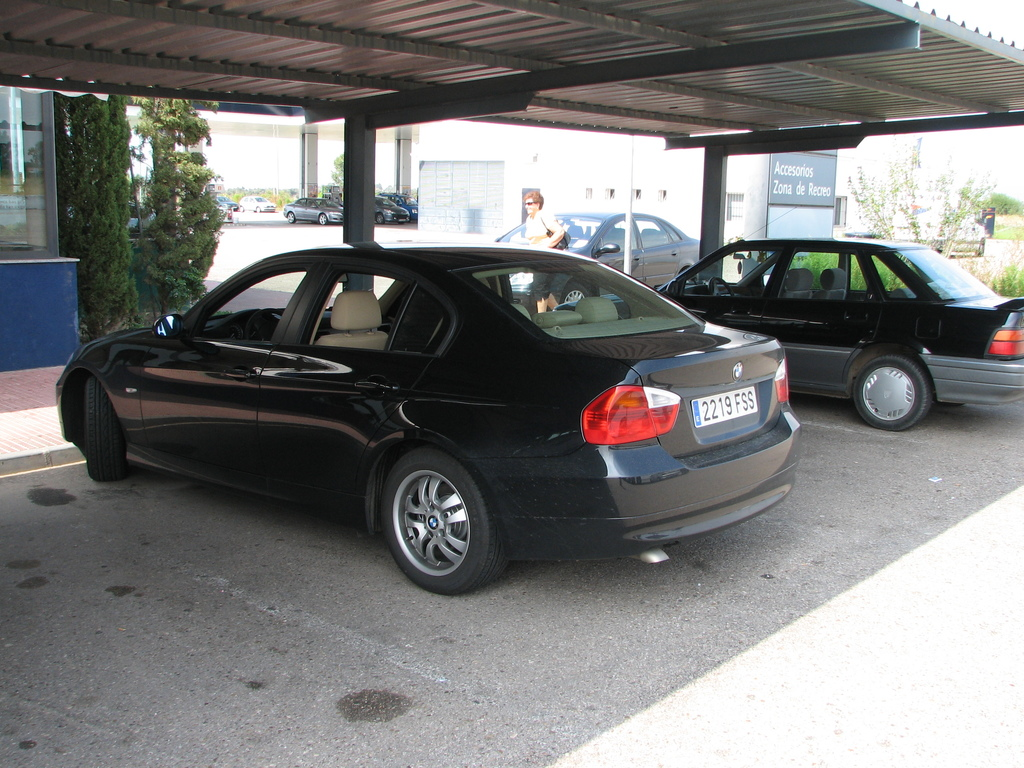license plate: (690, 401, 766, 426)
